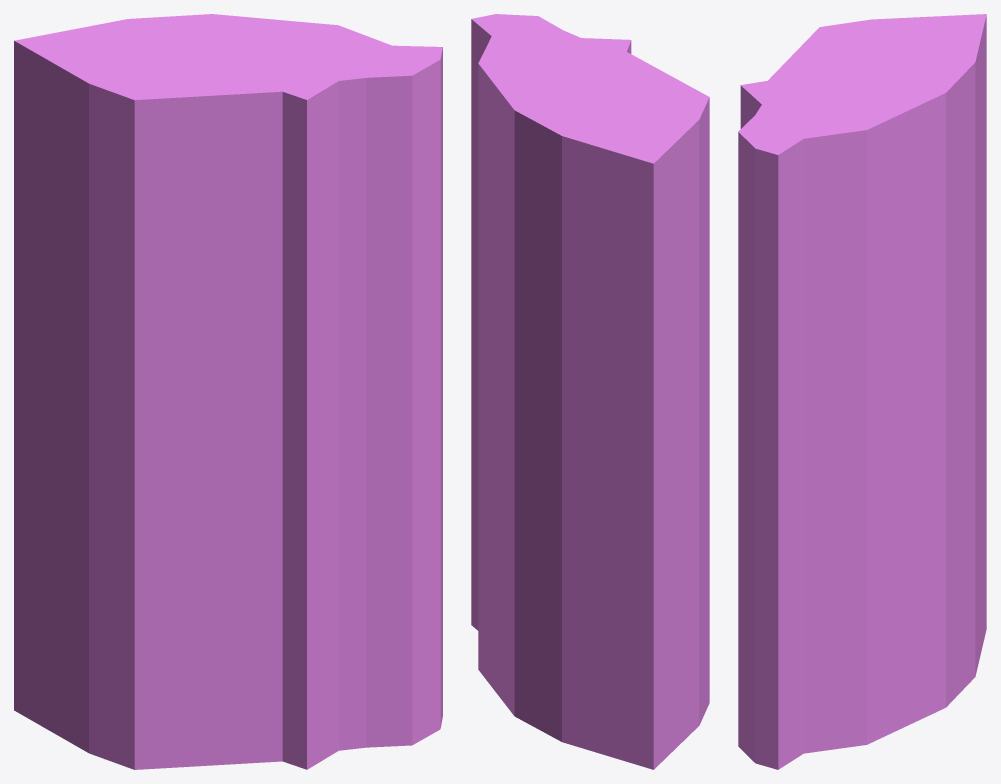
The model's file is interlaken.glb.
3 renders of one model, left to right at view 1: azimuth 30°, elevation 25°; view 2: azimuth 150°, elevation 25°; view 3: azimuth 270°, elevation 25°, orthographic. The views are drawn at different scales.
Visible parts, largest first — view 1: Plane.024; view 2: Plane.024; view 3: Plane.024.
Boxes of the visible parts, box(x1,y1,x2,y2) form: Plane.024: box(14, 14, 442, 769); Plane.024: box(471, 14, 709, 769); Plane.024: box(738, 14, 986, 769).
Size of the model in its own units: 0.1898 by 0.3856 by 0.1413.
